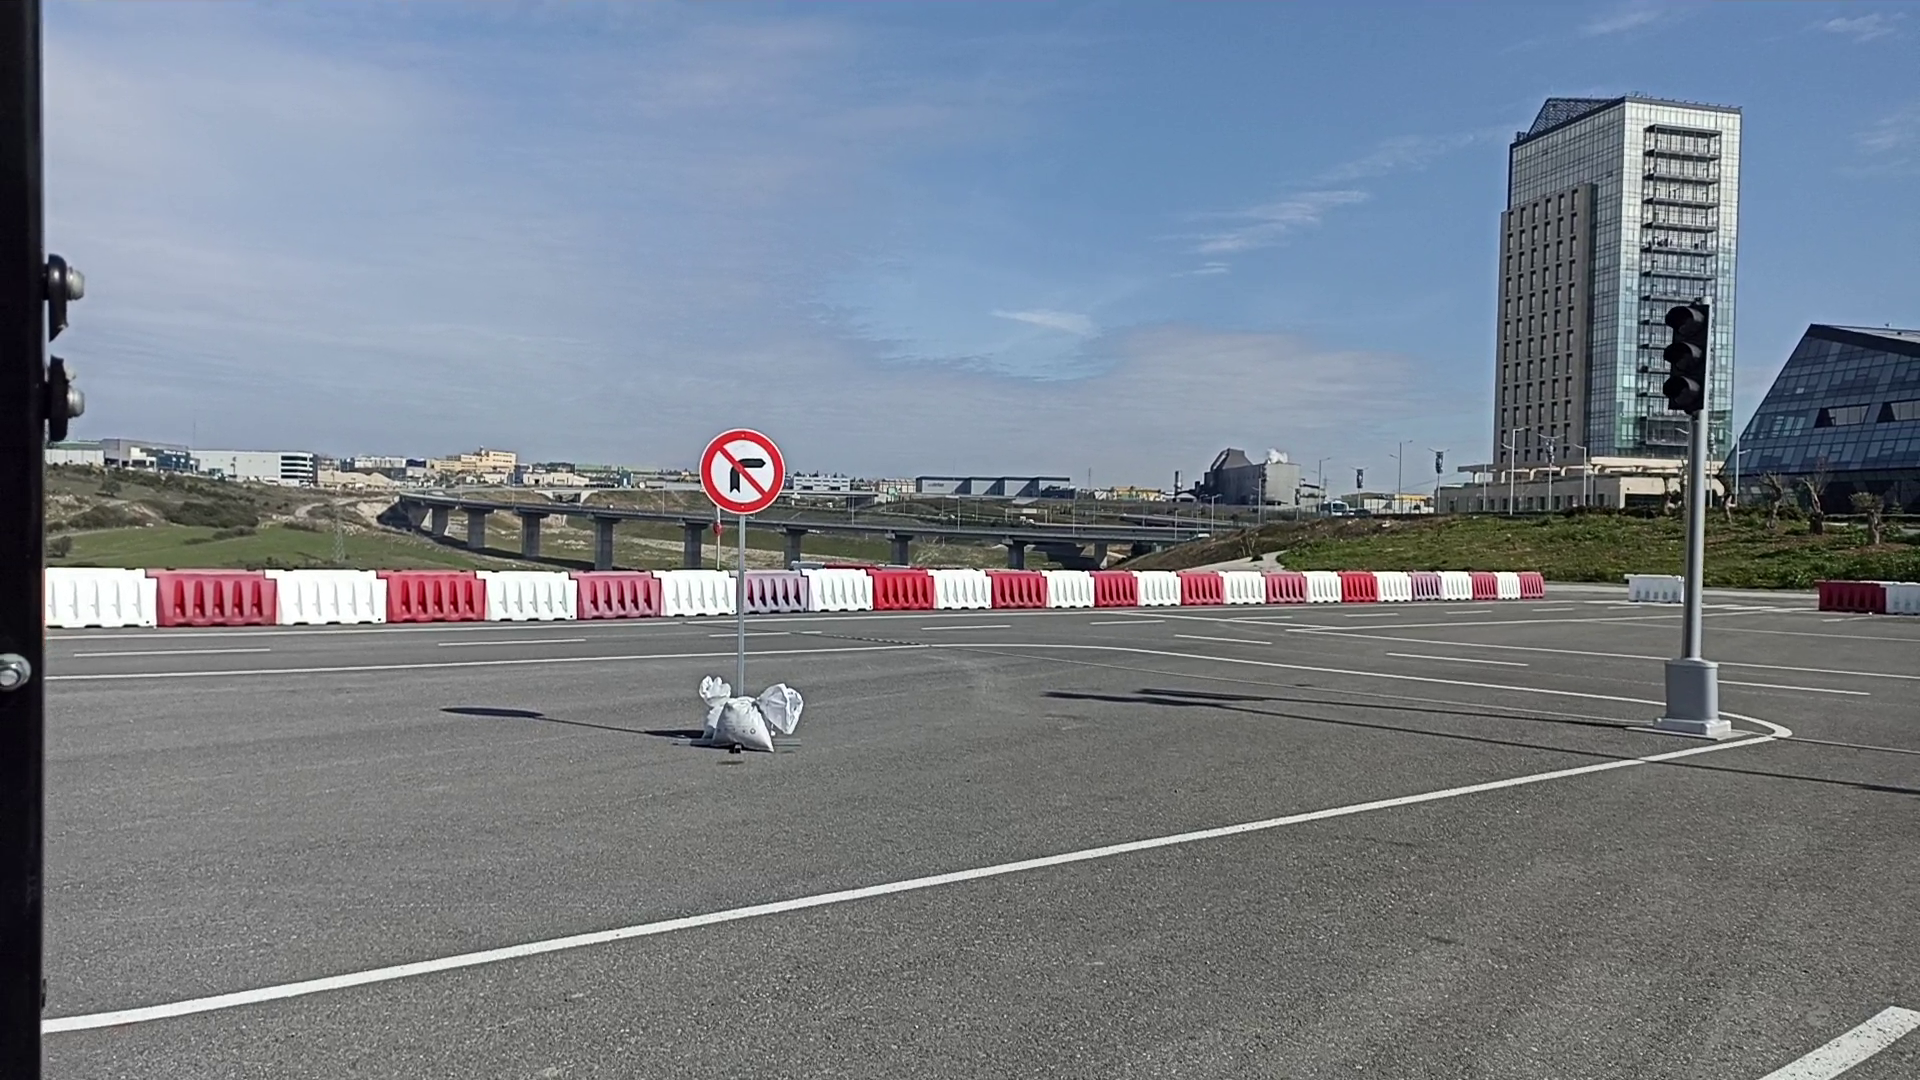noleftturn: (698, 426, 789, 516)
trafficlight: (1660, 297, 1713, 414)
